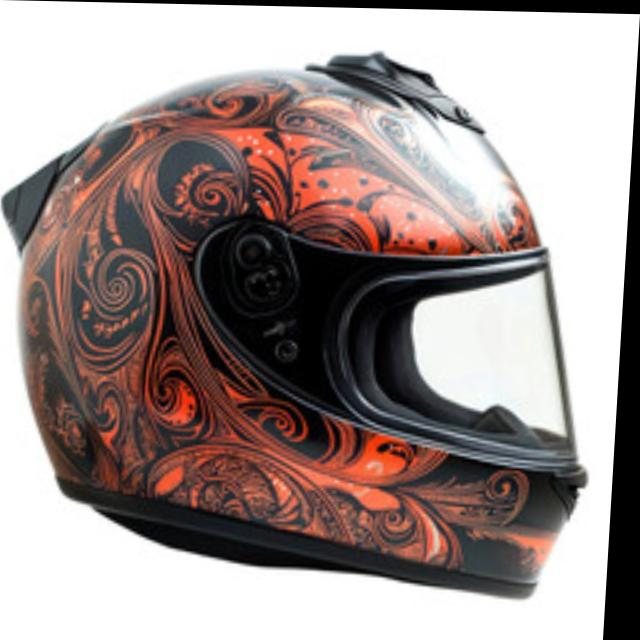motorcycle-helmets: (0, 13, 615, 615)
